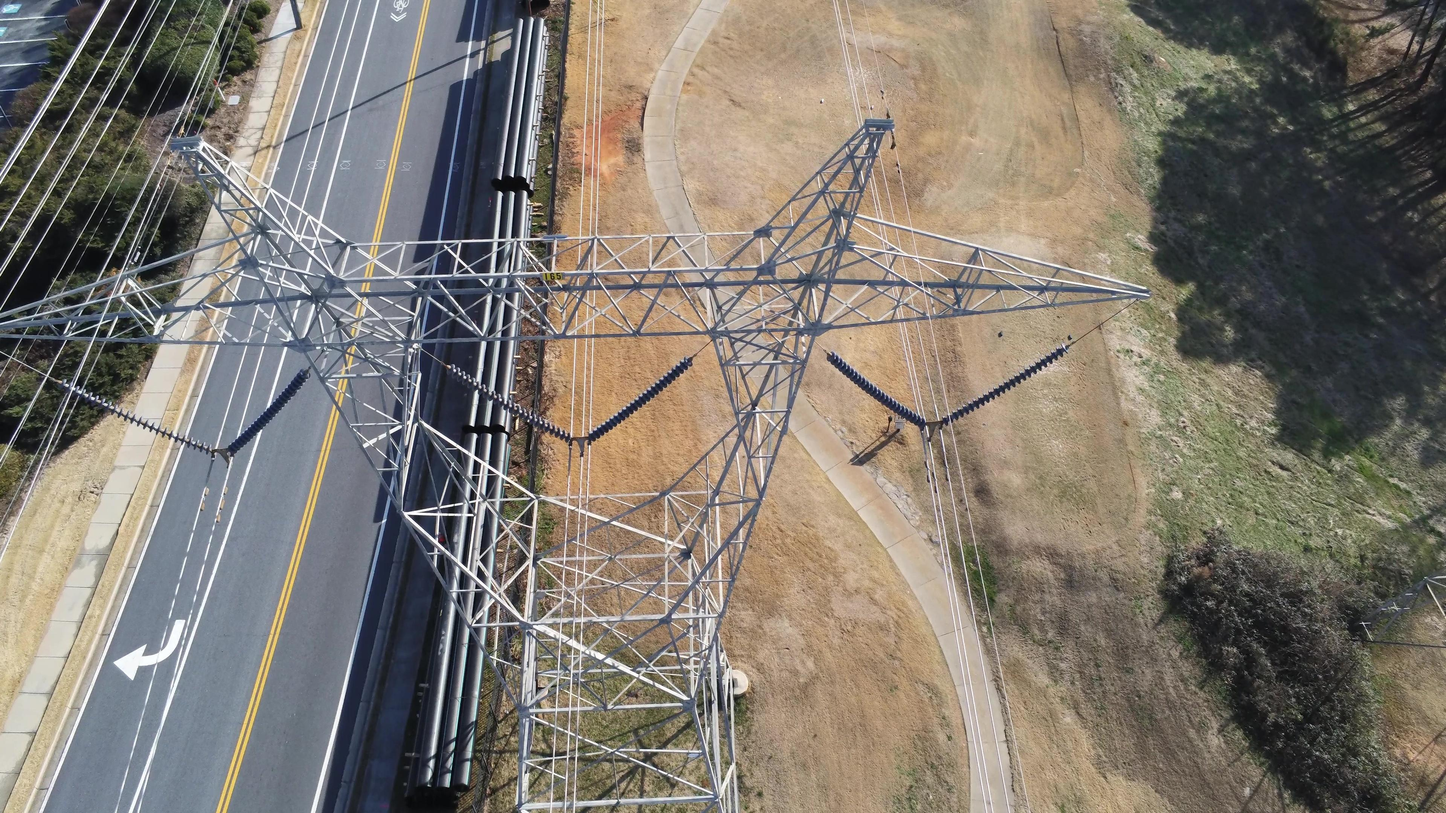power_tower: (0, 119, 1153, 813)
